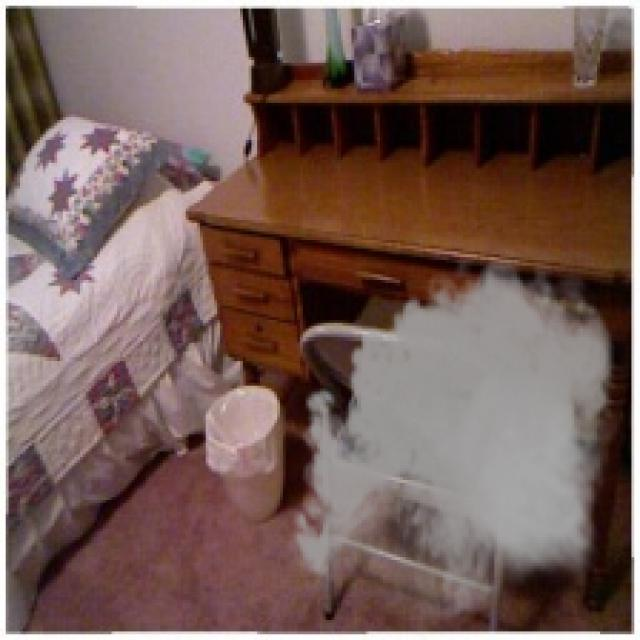smoke: (283, 246, 628, 637)
